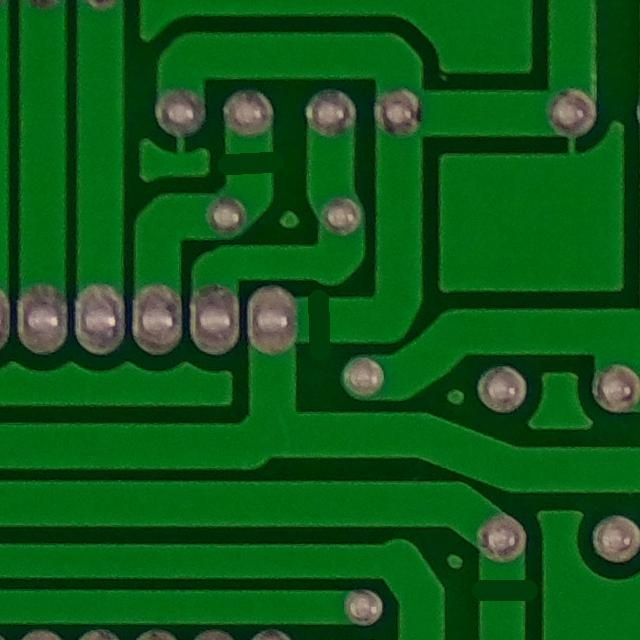open_circuit: (293, 282, 347, 359)
